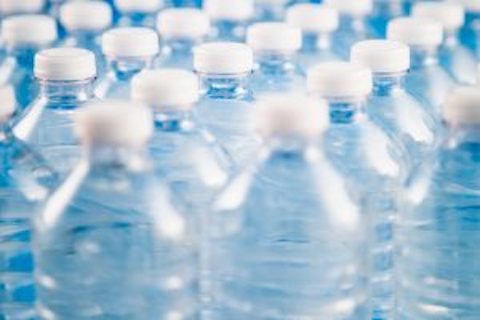plastic_bottle: (26, 103, 243, 320), (326, 6, 480, 278), (216, 85, 369, 320), (265, 24, 420, 242), (98, 62, 246, 274), (117, 1, 255, 216), (363, 14, 467, 299), (95, 19, 242, 195), (175, 15, 293, 219), (270, 1, 413, 164), (17, 38, 126, 246), (2, 4, 87, 195), (49, 1, 156, 133), (397, 1, 479, 167)
